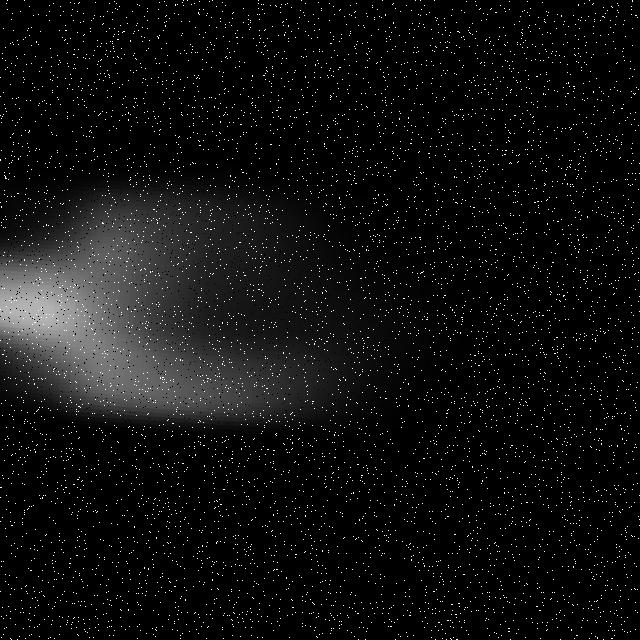person: (1, 131, 485, 498)
